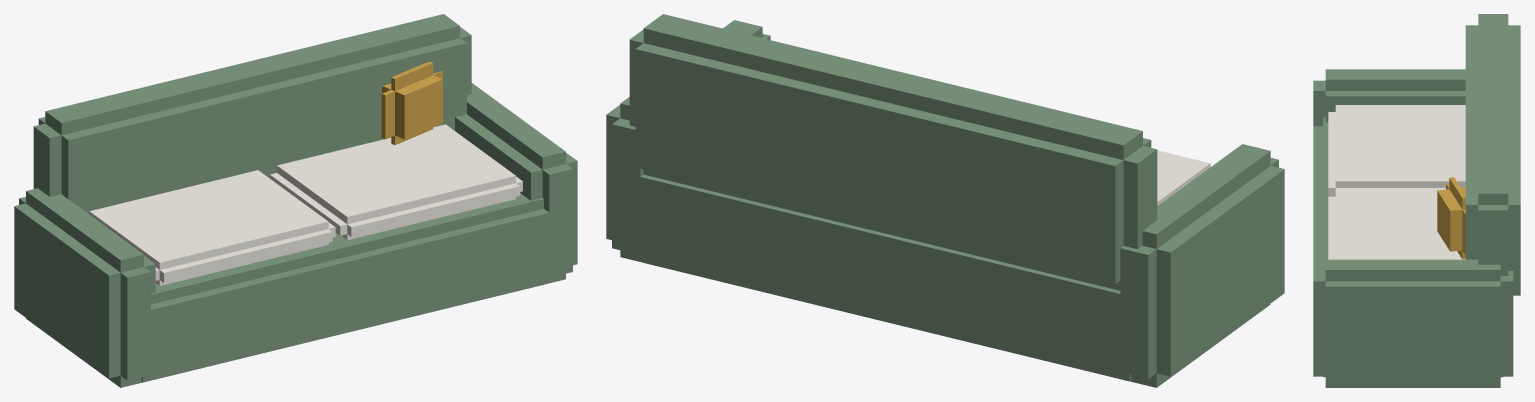
File: sofa.glb
3 renders of one model, left to right at view 1: azimuth 30°, elevation 25°; view 2: azimuth 150°, elevation 25°; view 3: azimuth 270°, elevation 25°, orthographic. The views are drawn at different scales.
Parts seen in each view (by area): view 1: Backrest.001, Base.001, ArmL.001, Cushion2, Cushion1, ArmR.001, Pillow.001; view 2: Backrest.001, Base.001, ArmL.001, ArmR.001, Cushion1; view 3: ArmR.001, Backrest.001, Cushion1, Cushion2, ArmL.001, Base.001, Pillow.001.
Part boxes in pixels (<box>): Backrest.001: <box>33,14,471,213</box>; Base.001: <box>141,193,551,382</box>; ArmL.001: <box>14,188,155,387</box>; Cushion2: <box>270,124,522,240</box>; Cushion1: <box>89,170,335,285</box>; ArmR.001: <box>455,83,577,283</box>; Pillow.001: <box>381,62,442,144</box>; Backrest.001: <box>629,14,1157,290</box>; Base.001: <box>637,174,1131,381</box>; ArmL.001: <box>1120,144,1284,387</box>; ArmR.001: <box>606,20,770,262</box>; Cushion1: <box>1157,150,1210,205</box>; ArmR.001: <box>1313,259,1513,387</box>; Backrest.001: <box>1465,14,1520,295</box>; Cushion1: <box>1328,105,1465,196</box>; Cushion2: <box>1328,189,1465,259</box>; ArmL.001: <box>1313,69,1465,126</box>; Base.001: <box>1313,117,1502,377</box>; Pillow.001: <box>1437,177,1465,259</box>.
Size of the model in its own units: 2 by 0.81 by 0.83.
